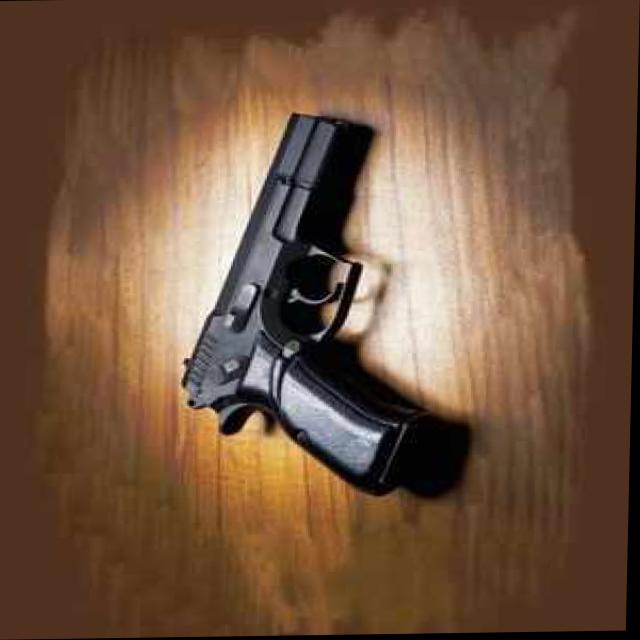handgun: (179, 111, 421, 502)
